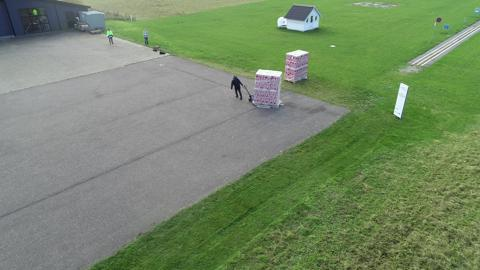RockwoolPallet: (255, 69, 282, 106)
